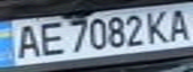0: (87, 15, 109, 51)
2: (124, 11, 148, 47)
7: (63, 16, 90, 54)
8: (106, 12, 130, 50)
A: (6, 21, 45, 60), (163, 4, 193, 42)
E: (33, 18, 66, 57)
K: (142, 8, 175, 45)
